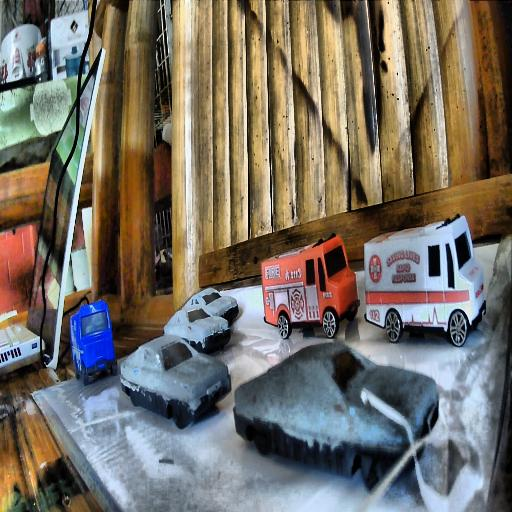ambulance: (362, 212, 486, 346)
fire_truck: (259, 232, 358, 340)
normal_car: (236, 340, 434, 493), (120, 332, 230, 430), (175, 275, 241, 317), (165, 312, 230, 354)
police car: (70, 299, 120, 387)
